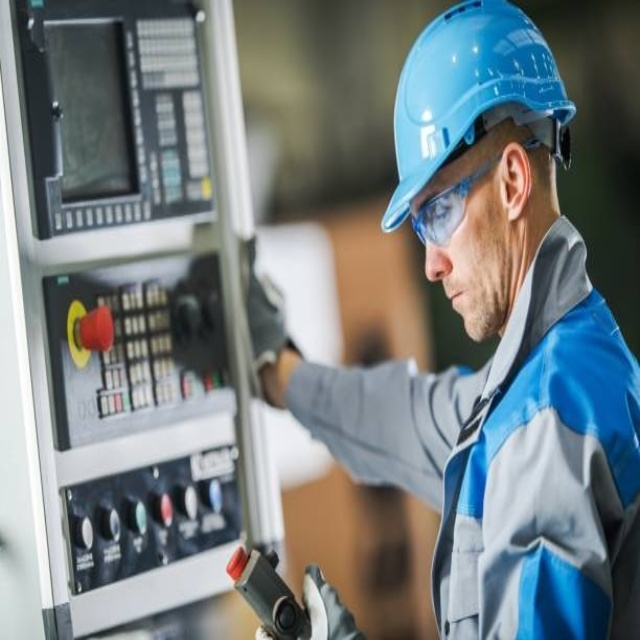Gafas: (409, 133, 544, 251)
Guantes: (240, 245, 292, 381), (300, 563, 371, 640)
Sin_mascara: (439, 270, 492, 345)
